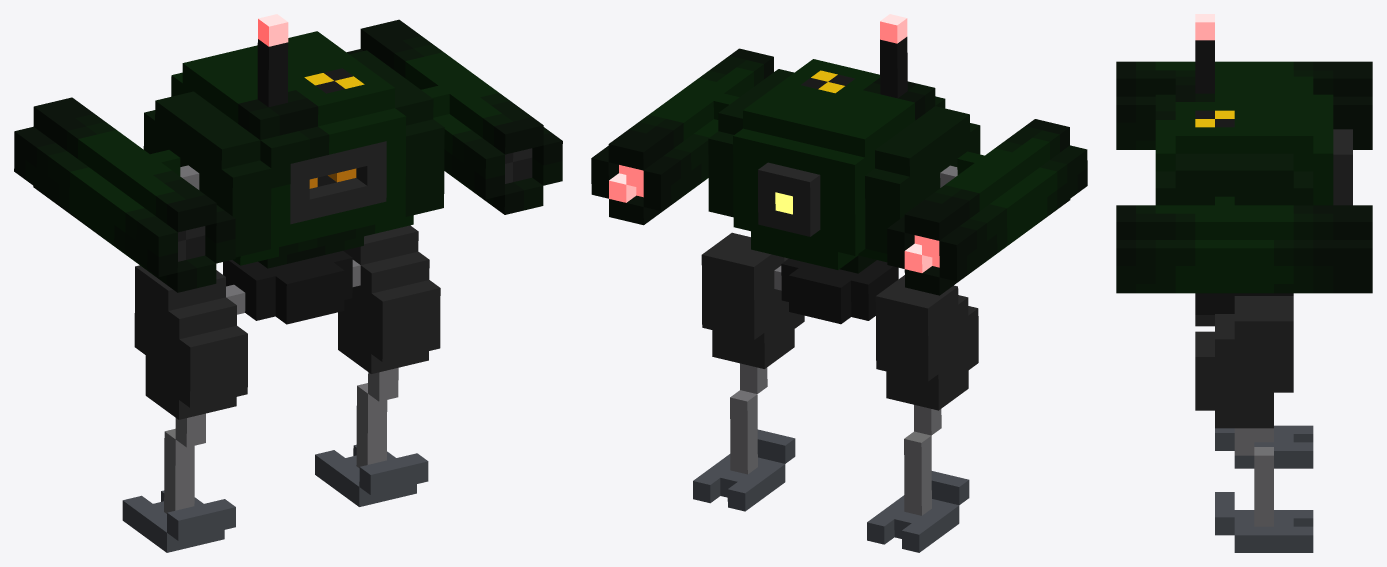
Rendered from Robot.glb.
3 views of the same model, side by side, from view 1: azimuth 30°, elevation 25°; view 2: azimuth 150°, elevation 25°; view 3: azimuth 270°, elevation 25° (orthographic). The views are drawn at different scales.
Visible parts, largest first — view 1: Mech; view 2: Mech; view 3: Mech.
Part boxes in pixels (x1,y1,x2,y2): Mech: [14, 14, 562, 552]; Mech: [591, 14, 1087, 552]; Mech: [1116, 14, 1372, 552].
Bounding box in the file's own units: 2.1 × 2.61 × 1.3.
Materials: 8 (1 with a texture image).
